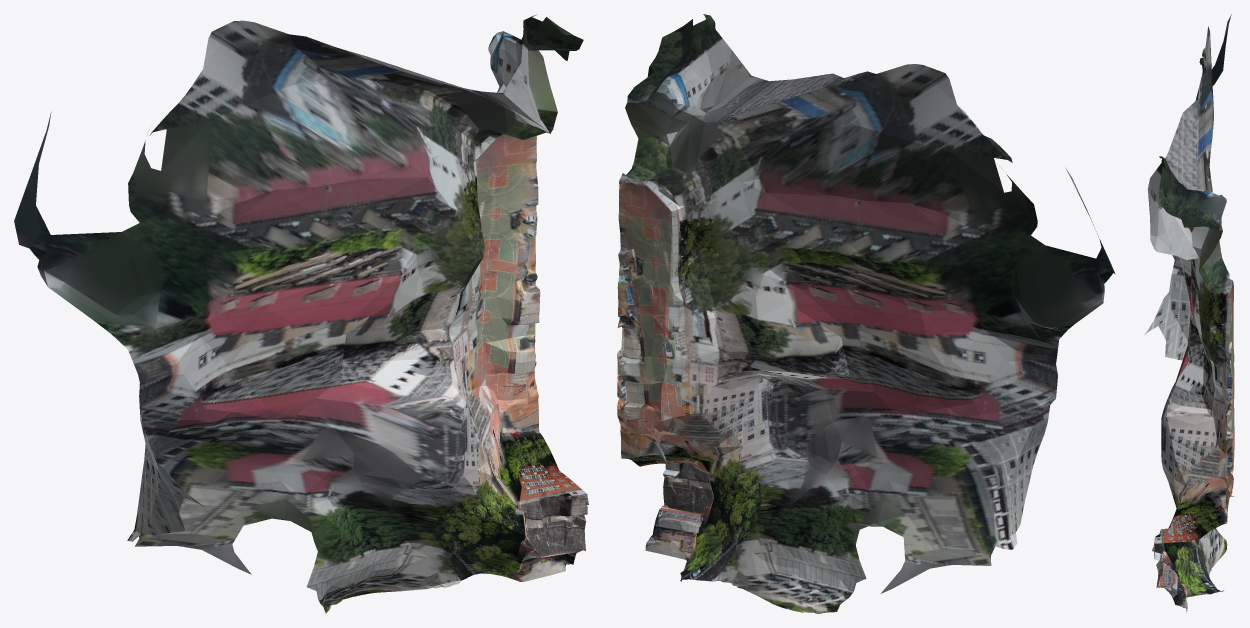
The model's file is Tile_+000_+003.obj.
3 renders of one model, left to right at view 1: azimuth 30°, elevation 25°; view 2: azimuth 150°, elevation 25°; view 3: azimuth 270°, elevation 25°, orthographic. The views are drawn at different scales.
Bounding box in the file's own units: 156 × 173 × 30.75.
Materials: 1 (1 with a texture image).
